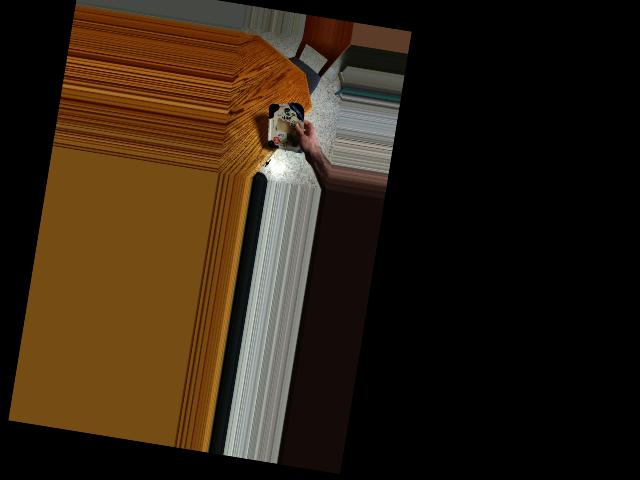cheese: (266, 97, 309, 159)
